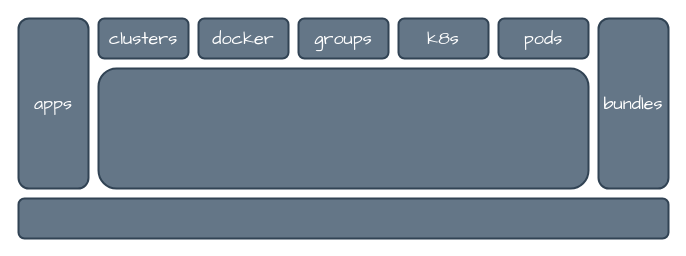
Image size: 686x256. Some labels were removed from this diagram. Each missing label, with the centre of its shape:
"data hub" goes at (343,128).
"workspace" goes at (343,218).
